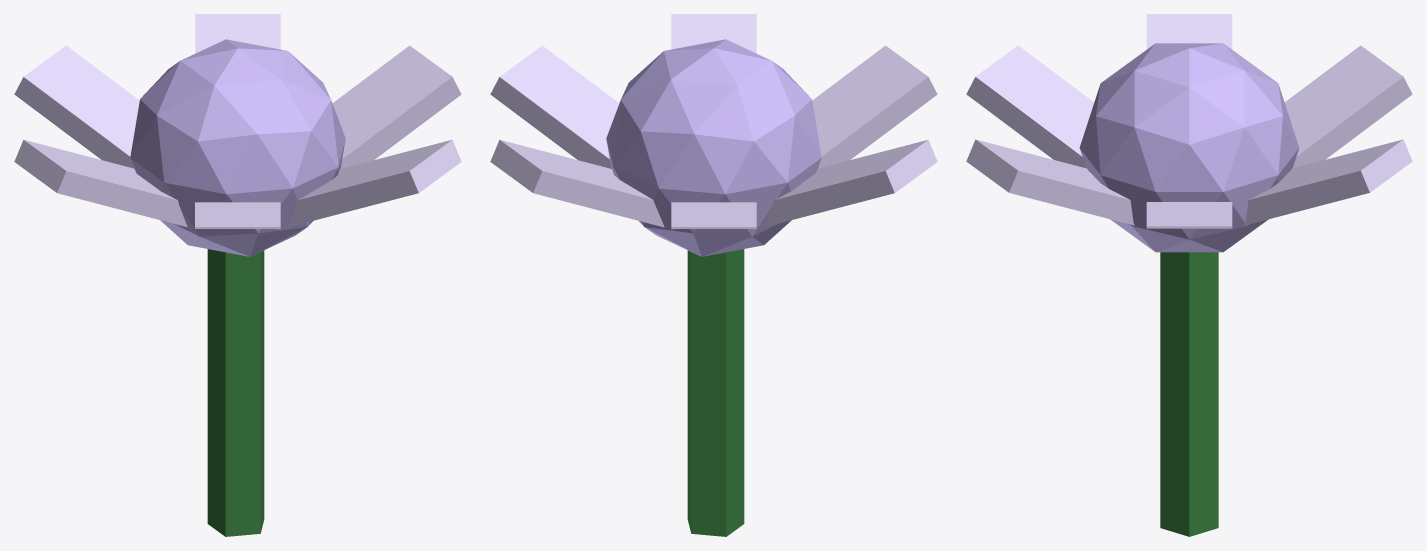
Rendered from moonpetal.obj.
The picture shows the model from 3 angles, left to right: view 1: azimuth 30°, elevation 25°; view 2: azimuth 150°, elevation 25°; view 3: azimuth 270°, elevation 25°; orthographic projection.
Visible parts, largest first — view 1: part_1, part_0, part_2, part_4, part_7, part_5, part_3, part_6; view 2: part_1, part_0, part_2, part_6, part_3, part_5, part_7, part_4; view 3: part_1, part_0, part_4, part_6, part_3, part_7, part_5, part_2.
Boxes of the visible parts, bbox=[...] form: part_1: bbox=[130, 39, 345, 256]; part_0: bbox=[207, 249, 264, 536]; part_2: bbox=[332, 45, 461, 168]; part_4: bbox=[14, 45, 139, 168]; part_7: bbox=[287, 139, 461, 227]; part_5: bbox=[14, 139, 187, 227]; part_3: bbox=[195, 14, 280, 53]; part_6: bbox=[195, 202, 280, 229]; part_1: bbox=[606, 39, 821, 256]; part_0: bbox=[687, 249, 744, 536]; part_2: bbox=[490, 45, 619, 168]; part_6: bbox=[812, 45, 937, 168]; part_3: bbox=[490, 139, 664, 227]; part_5: bbox=[764, 139, 937, 227]; part_7: bbox=[671, 14, 756, 53]; part_4: bbox=[671, 202, 756, 229]; part_1: bbox=[1079, 43, 1299, 252]; part_0: bbox=[1160, 252, 1218, 536]; part_4: bbox=[1284, 45, 1412, 167]; part_6: bbox=[966, 45, 1094, 167]; part_3: bbox=[1244, 139, 1412, 225]; part_7: bbox=[966, 139, 1134, 225]; part_5: bbox=[1146, 14, 1232, 49]; part_2: bbox=[1146, 202, 1232, 228].
Bounding box in the file's own units: 0.3818 × 0.43 × 0.3656.
